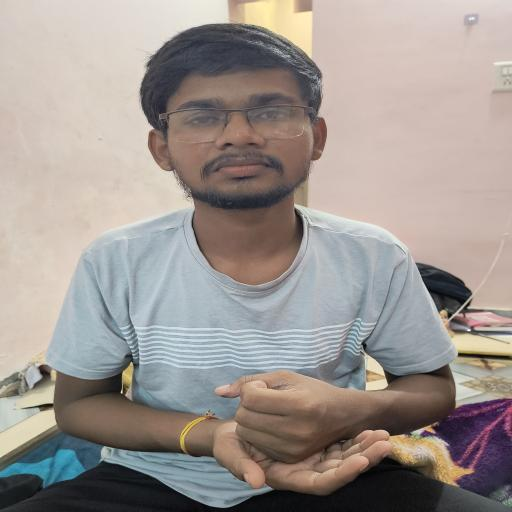Next: (198, 354, 426, 503)
